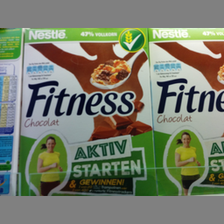cereal: (15, 27, 148, 198), (148, 27, 224, 197)
